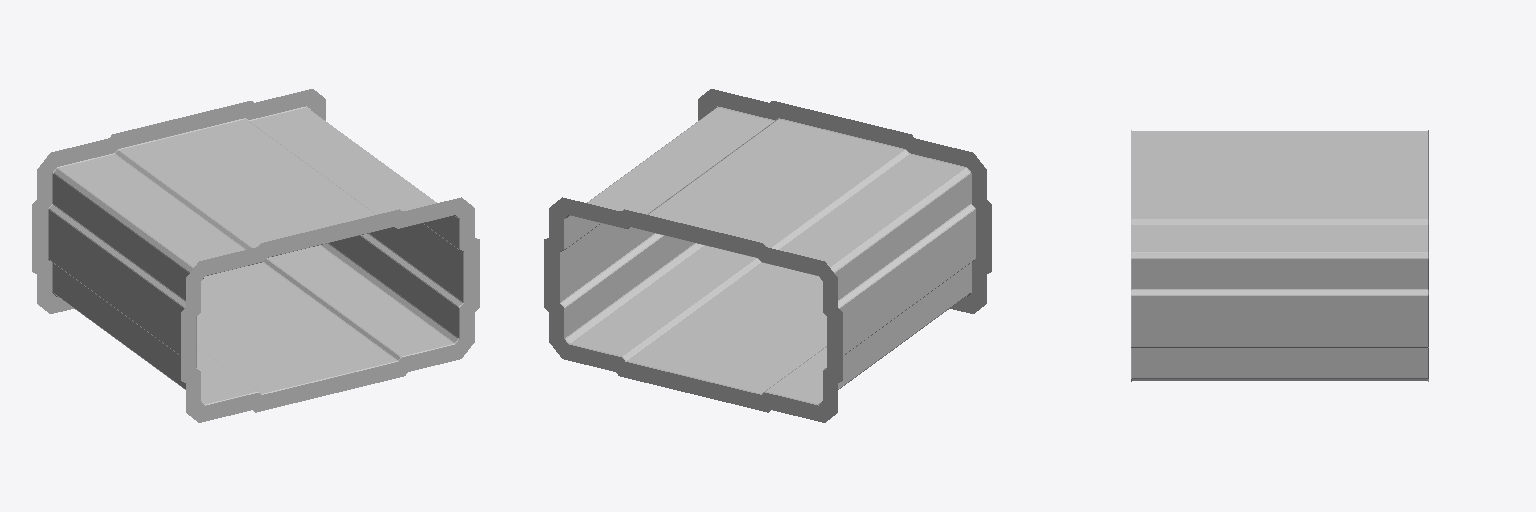
File: CorridorConectionIn.obj
3 views of the same model, side by side, from view 1: azimuth 30°, elevation 25°; view 2: azimuth 150°, elevation 25°; view 3: azimuth 270°, elevation 25° (orthographic).
Visible parts, largest first — view 1: CorridorConectionIn_Cube.006; view 2: CorridorConectionIn_Cube.006; view 3: CorridorConectionIn_Cube.006.
Part boxes in pixels (x1,y1,x2,y2): CorridorConectionIn_Cube.006: (32,89,479,422); CorridorConectionIn_Cube.006: (544,89,991,422); CorridorConectionIn_Cube.006: (1131,130,1428,381).
Size of the model in its own units: 18.58 by 10 by 16.